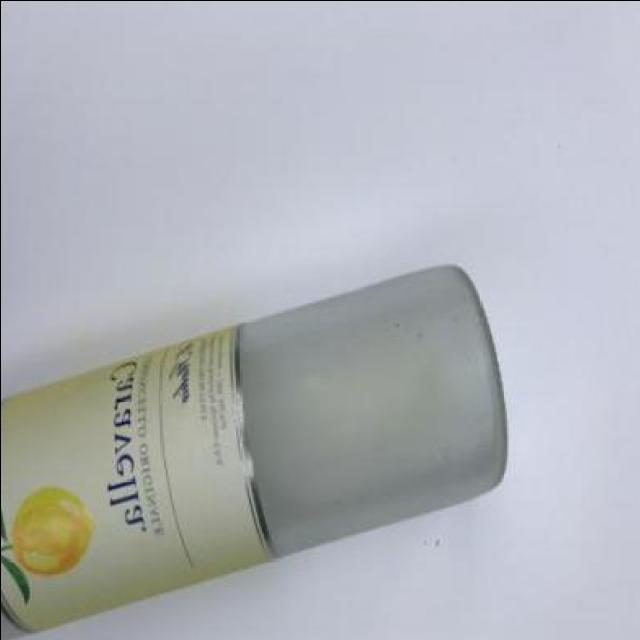kaca: (0, 261, 506, 640)
